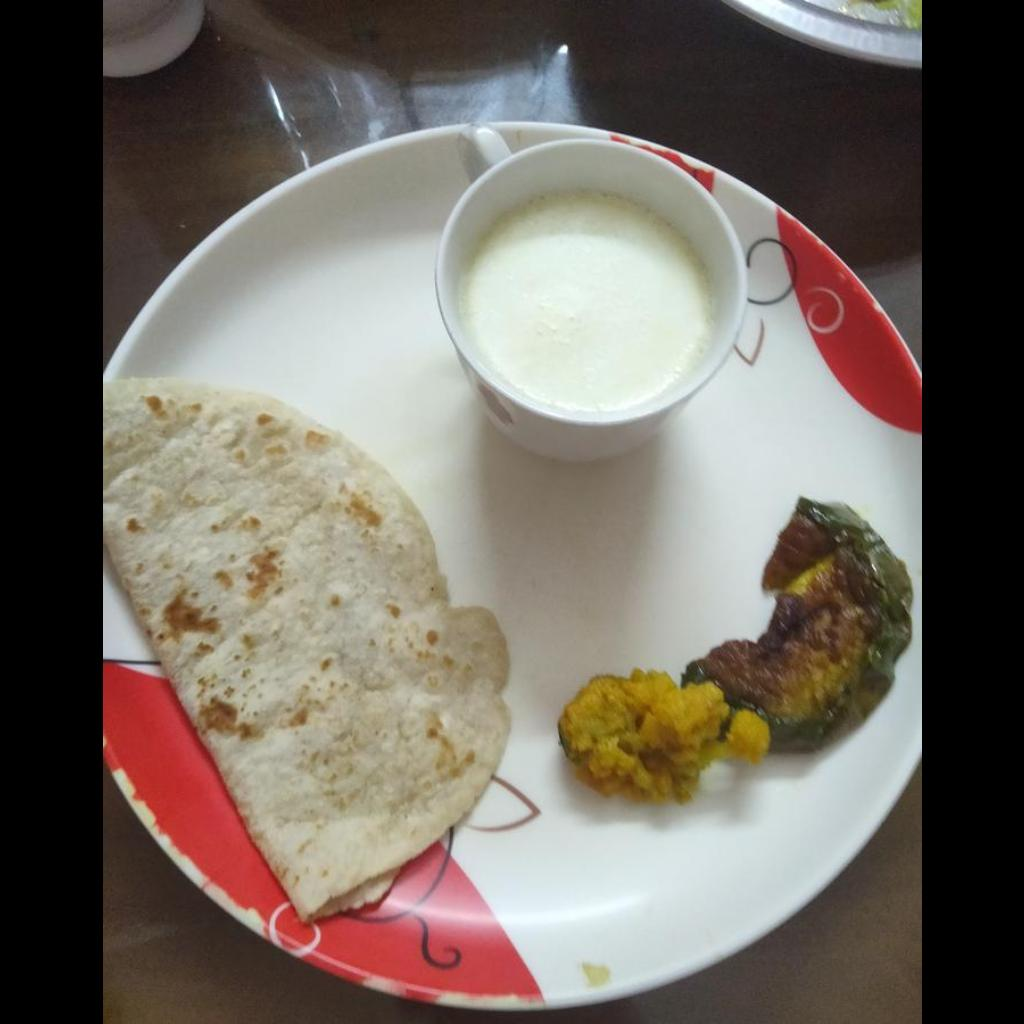milk: (464, 197, 708, 411)
ruti: (102, 375, 510, 919)
vaji: (552, 498, 920, 804)
